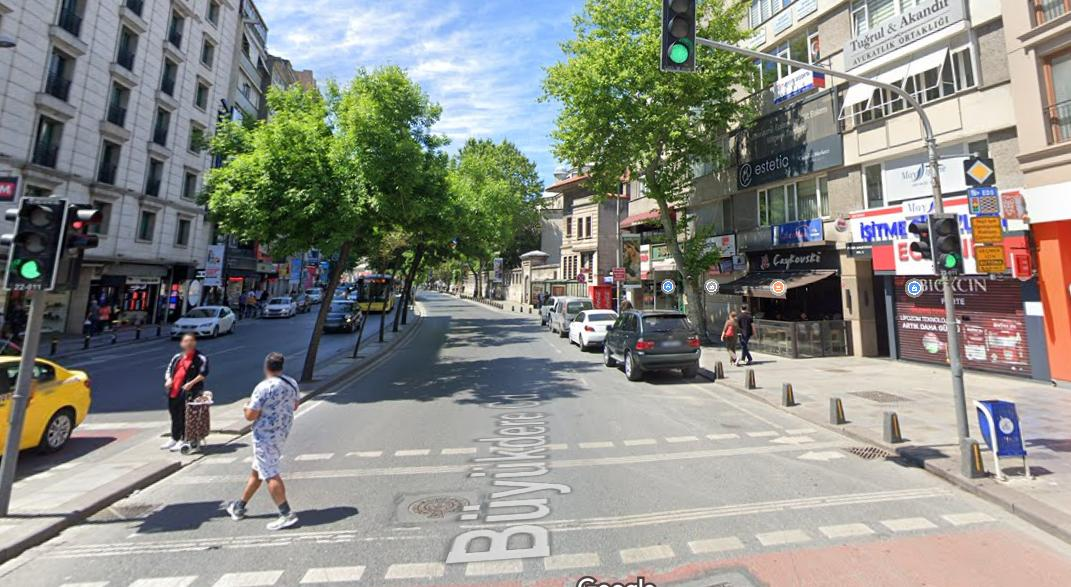greenlight: (18, 198, 60, 281), (665, 0, 693, 68), (934, 214, 962, 271)
